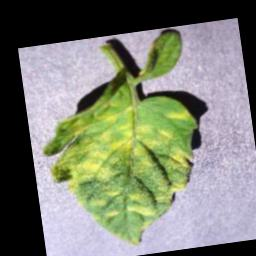Leaf_Mold: (34, 69, 213, 255)
